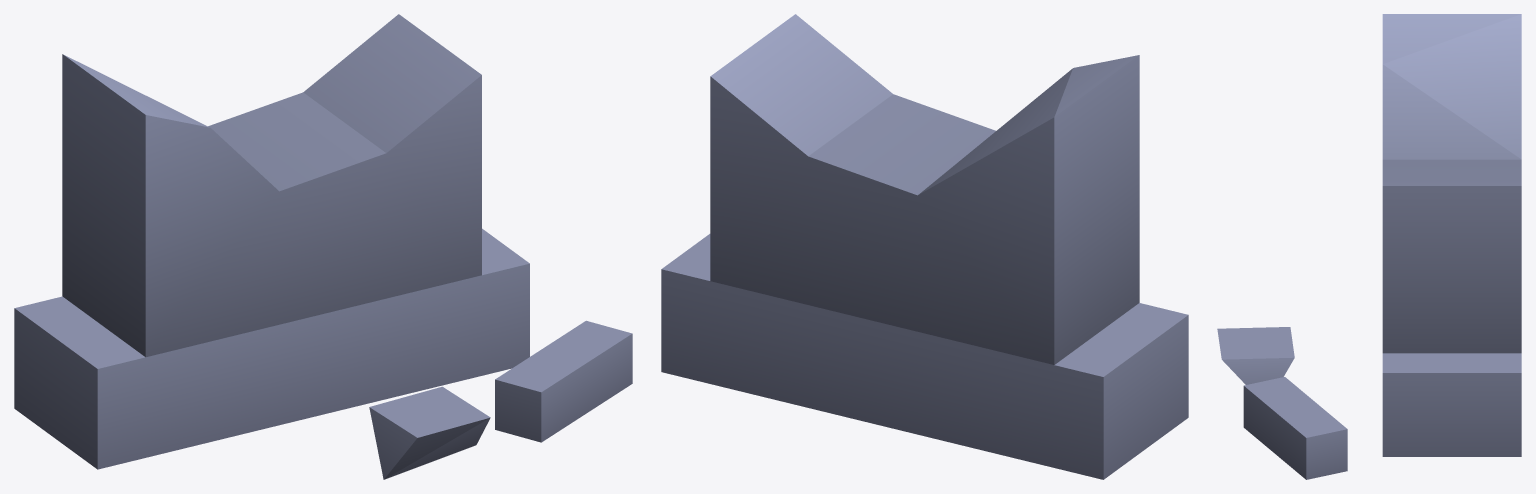
Rendered from K_gravestone-broken_lod.glb.
The picture shows the model from 3 angles, left to right: view 1: azimuth 30°, elevation 25°; view 2: azimuth 150°, elevation 25°; view 3: azimuth 270°, elevation 25°; orthographic projection. The views are drawn at different scales.
Parts seen in each view (by area): view 1: gravestone-broken; view 2: gravestone-broken; view 3: gravestone-broken.
Boxes of the visible parts, x1,y1,x2,y2 form: gravestone-broken: (14,14,632,479); gravestone-broken: (661,14,1188,479); gravestone-broken: (1217,14,1521,479).
Size of the model in its own units: 0.509 by 0.3411 by 0.3286.
